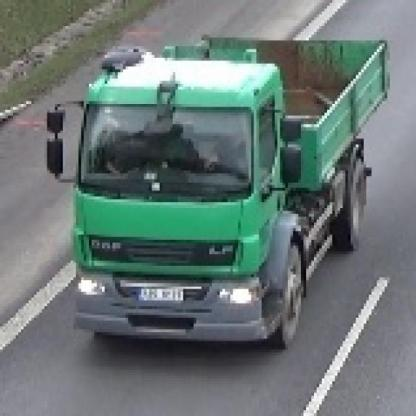truck: (48, 24, 396, 350)
